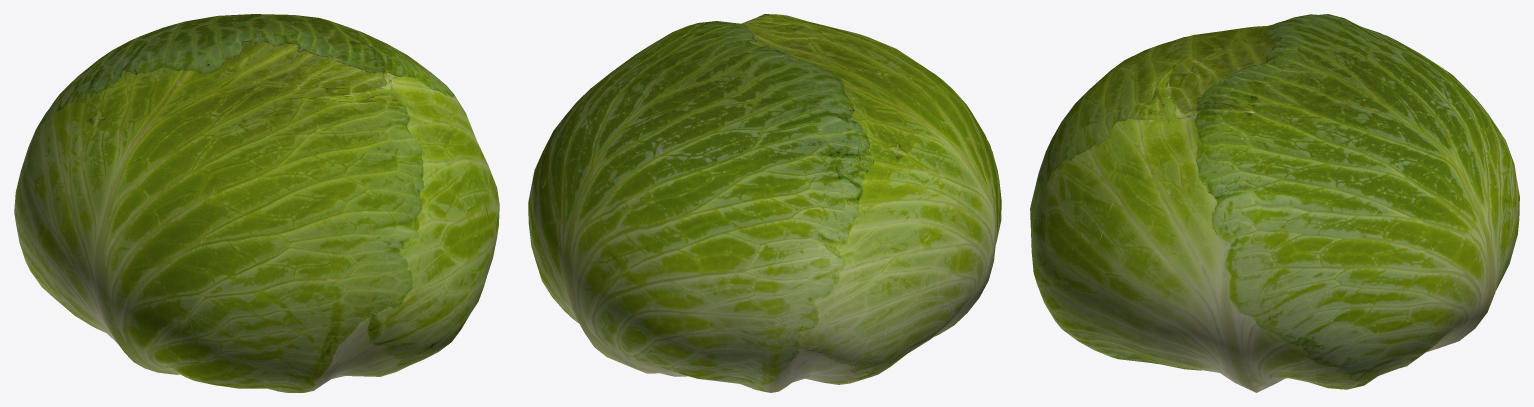
The model's file is cabbage.glb.
3 renders of one model, left to right at view 1: azimuth 30°, elevation 25°; view 2: azimuth 150°, elevation 25°; view 3: azimuth 270°, elevation 25°, orthographic.
Parts seen in each view (by area): view 1: Cabbage_Material.001_0; view 2: Cabbage_Material.001_0; view 3: Cabbage_Material.001_0.
Part boxes in pixels (bbox=[...]): Cabbage_Material.001_0: bbox=[14, 14, 499, 392]; Cabbage_Material.001_0: bbox=[528, 14, 1001, 392]; Cabbage_Material.001_0: bbox=[1030, 14, 1519, 392].
Bounding box in the file's own units: 16.88 × 12.21 × 17.49.
Materials: 1 (1 with a texture image).
